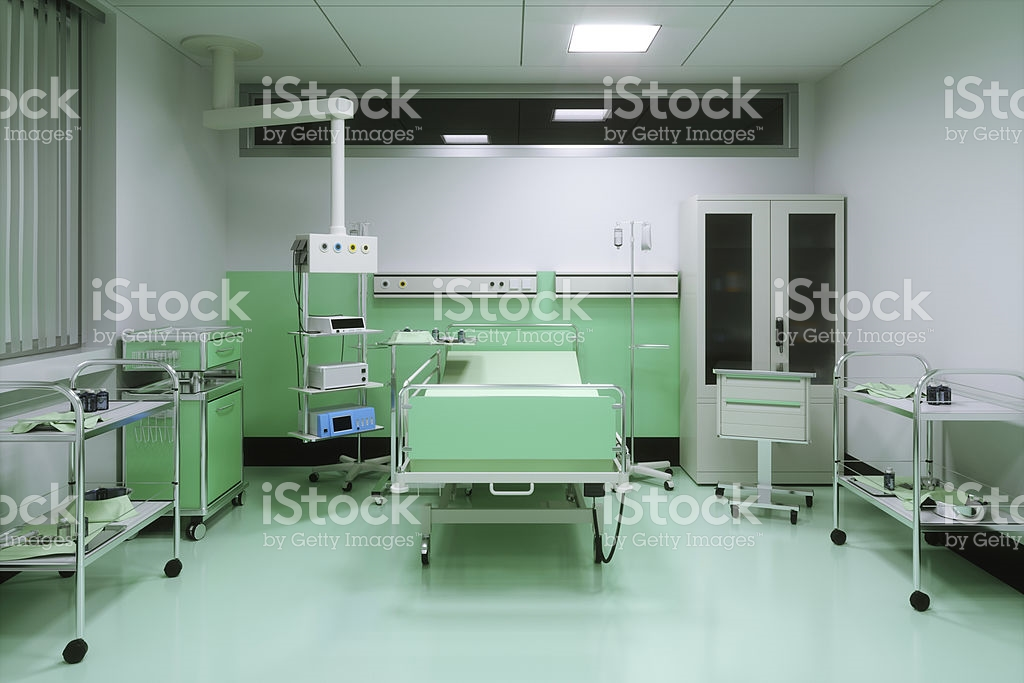hospital bed: (389, 316, 651, 503)
